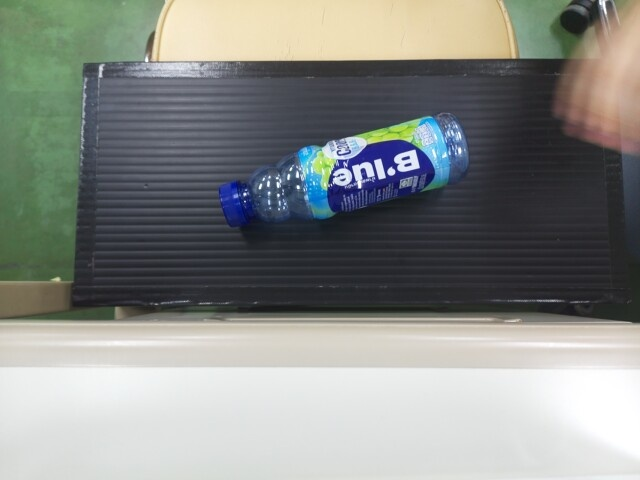plastic_bottle: (217, 123, 469, 222)
